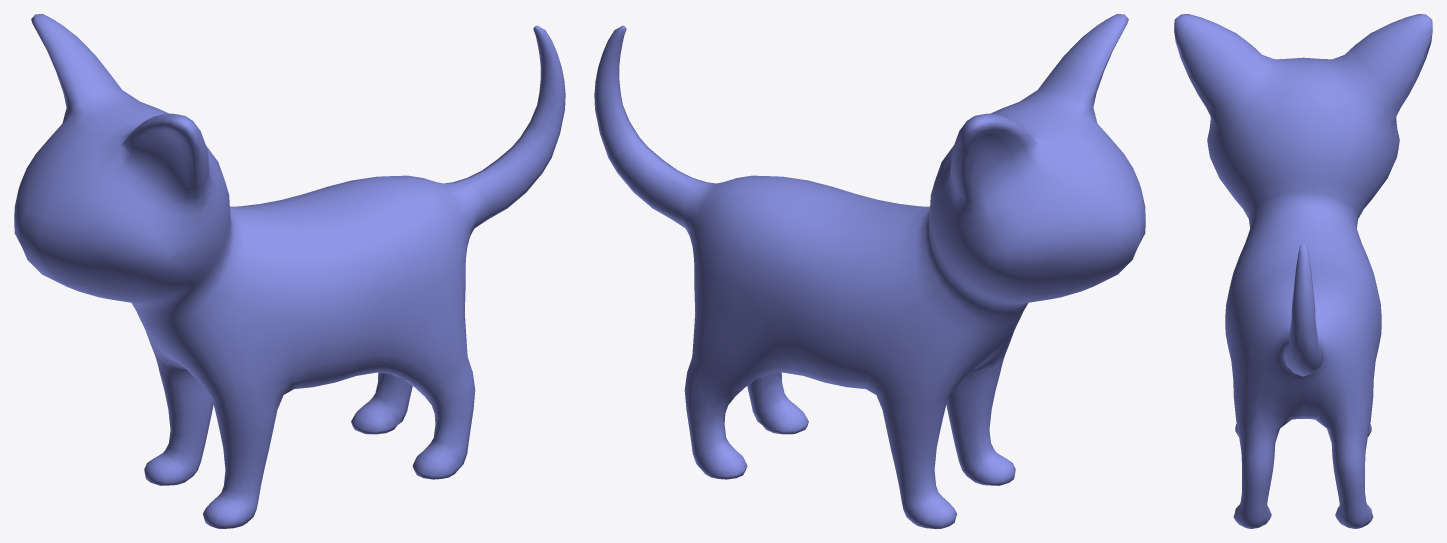
File: cat.glb
3 renders of one model, left to right at view 1: azimuth 30°, elevation 25°; view 2: azimuth 150°, elevation 25°; view 3: azimuth 270°, elevation 25°, orthographic. The views are drawn at different scales.
Parts seen in each view (by area): view 1: mesh_id27; view 2: mesh_id27; view 3: mesh_id27.
Boxes of the visible parts, <box> form: mesh_id27: <box>14,14,565,528</box>; mesh_id27: <box>594,14,1145,528</box>; mesh_id27: <box>1174,14,1432,528</box>.
Bounding box in the file's own units: 0.0795 × 0.0637 × 0.0388.
